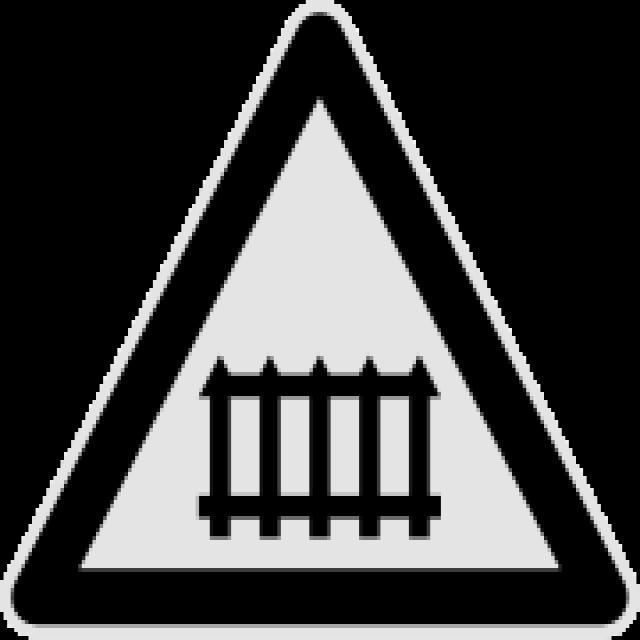guarded level crossing: (40, 32, 591, 620)
